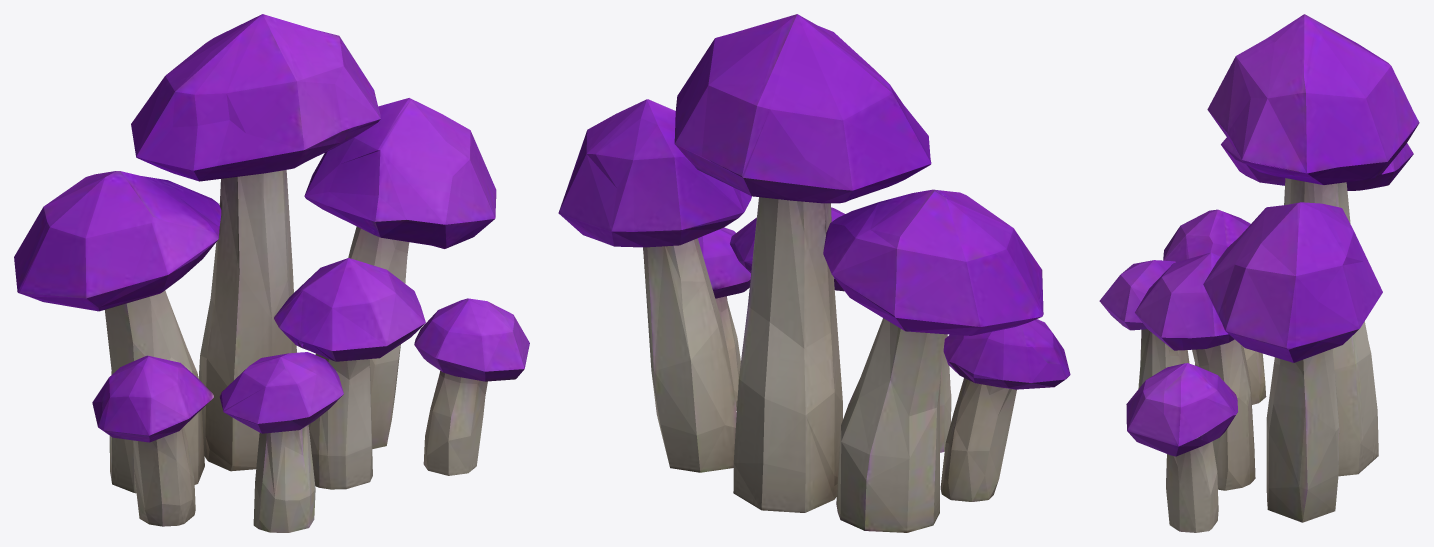
The model's file is d_mycelium_grappe.glb.
3 renders of one model, left to right at view 1: azimuth 30°, elevation 25°; view 2: azimuth 150°, elevation 25°; view 3: azimuth 270°, elevation 25°, orthographic. The views are drawn at different scales.
Visible parts, largest first — view 1: geometry_0; view 2: geometry_0; view 3: geometry_0.
Boxes of the visible parts, x1,y1,x2,y2 form: geometry_0: (14,14,529,532); geometry_0: (558,14,1070,532); geometry_0: (1099,14,1419,532).
Bounding box in the file's own units: 0.9975 × 0.9201 × 0.5965.
1 material, 1 textured.
